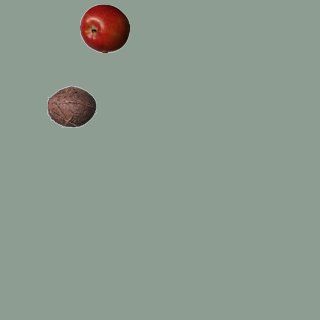Apple Braeburn: (79, 3, 129, 53)
Cocos: (46, 81, 96, 131)
